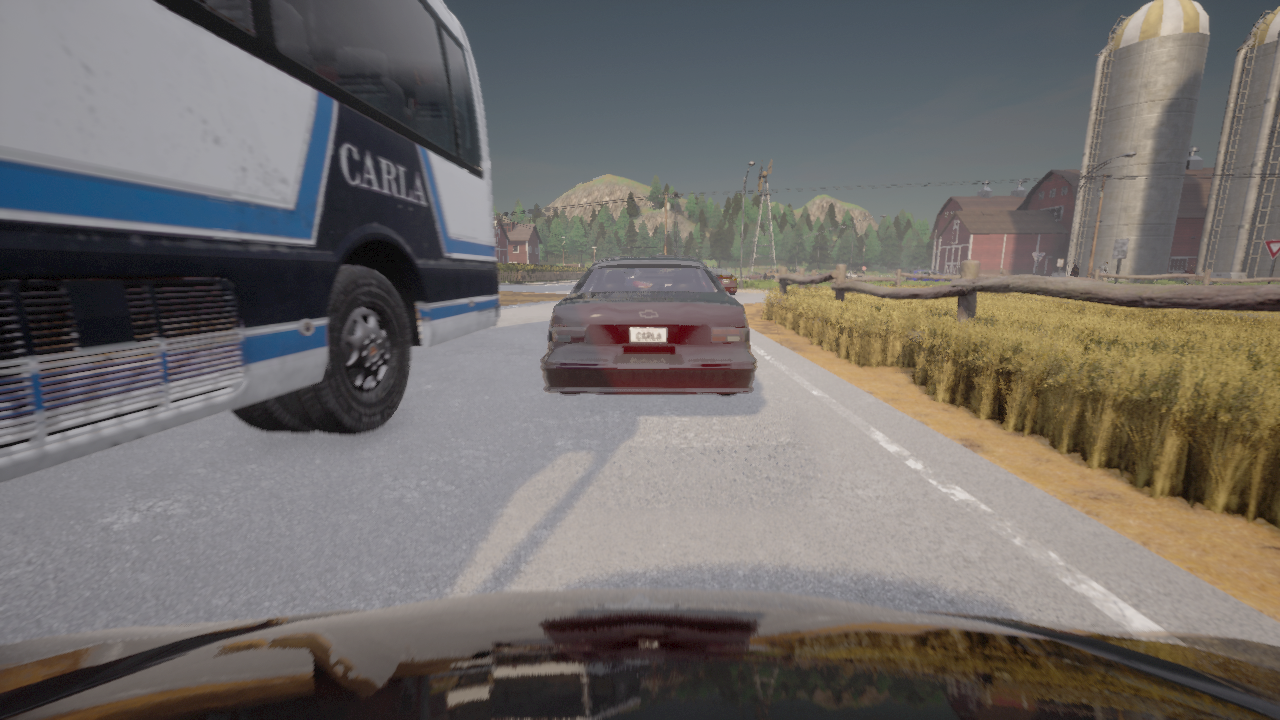cyclist: (0, 588, 1279, 719), (541, 256, 756, 395), (708, 268, 737, 295), (904, 270, 951, 281), (763, 270, 794, 278), (845, 269, 864, 278), (743, 272, 763, 279), (1175, 282, 1210, 285), (673, 256, 697, 259), (818, 272, 825, 275)
pedestrian: (1098, 260, 1108, 282), (1068, 263, 1079, 277), (704, 262, 705, 265)
